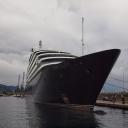cruises: (25, 40, 123, 118)
